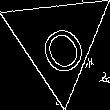O_NW: (28, 7, 88, 74)
